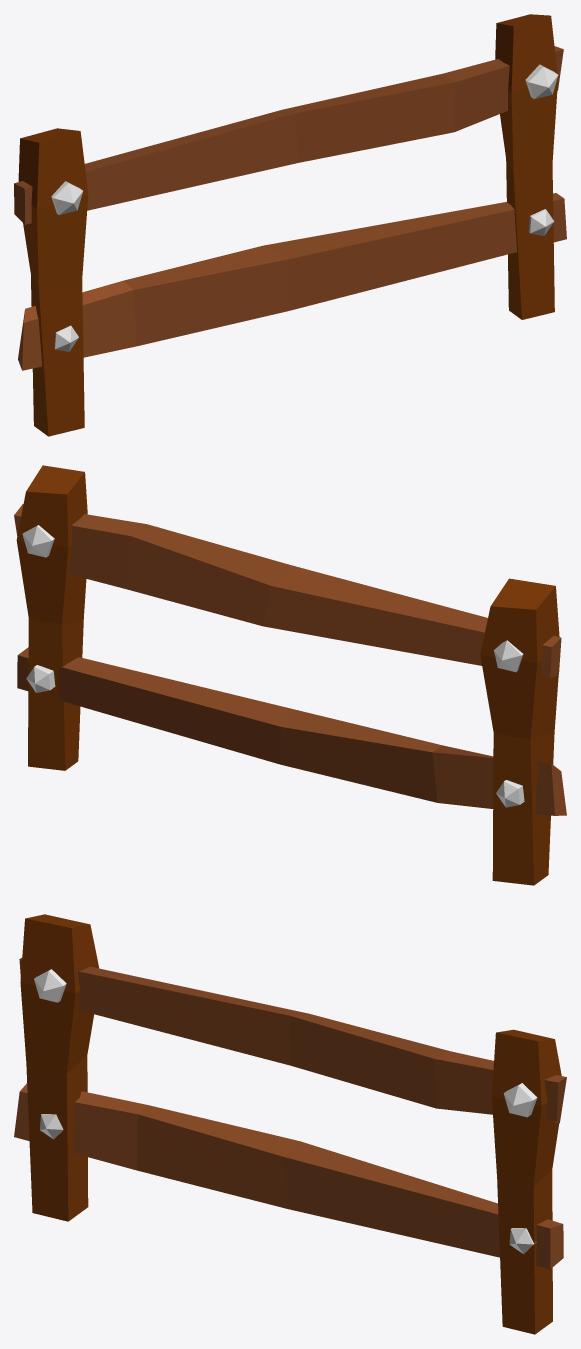
Rendered from Fence_Full.fbx.
The picture shows the model from 3 angles, top to bottom: view 1: azimuth 30°, elevation 25°; view 2: azimuth 150°, elevation 25°; view 3: azimuth 330°, elevation 25°; orthographic projection.
Visible parts, largest first — view 1: Fence_Full; view 2: Fence_Full; view 3: Fence_Full.
Boxes of the visible parts, x1,y1,x2,y2 form: Fence_Full: (14,14,566,436); Fence_Full: (14,465,566,885); Fence_Full: (14,914,566,1334).
Size of the model in its own units: 586 by 302 by 67.1.
